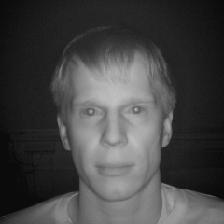normal: (43, 25, 182, 204)
